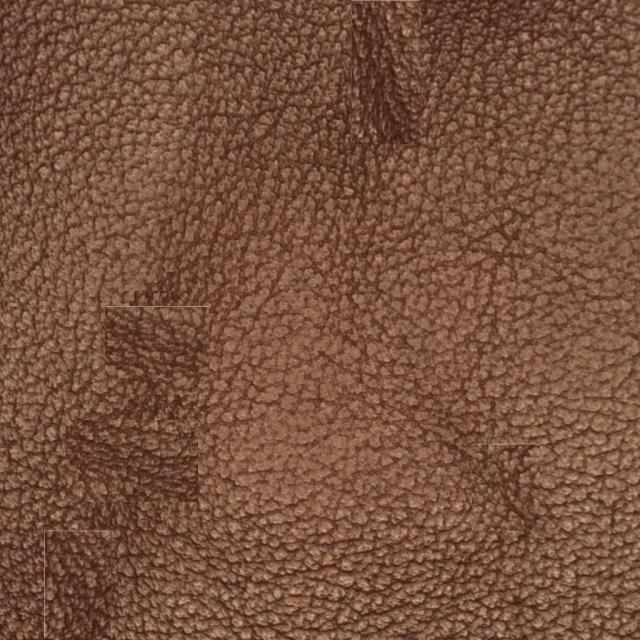Healed Injury: (60, 286, 258, 540), (331, 15, 469, 202)
